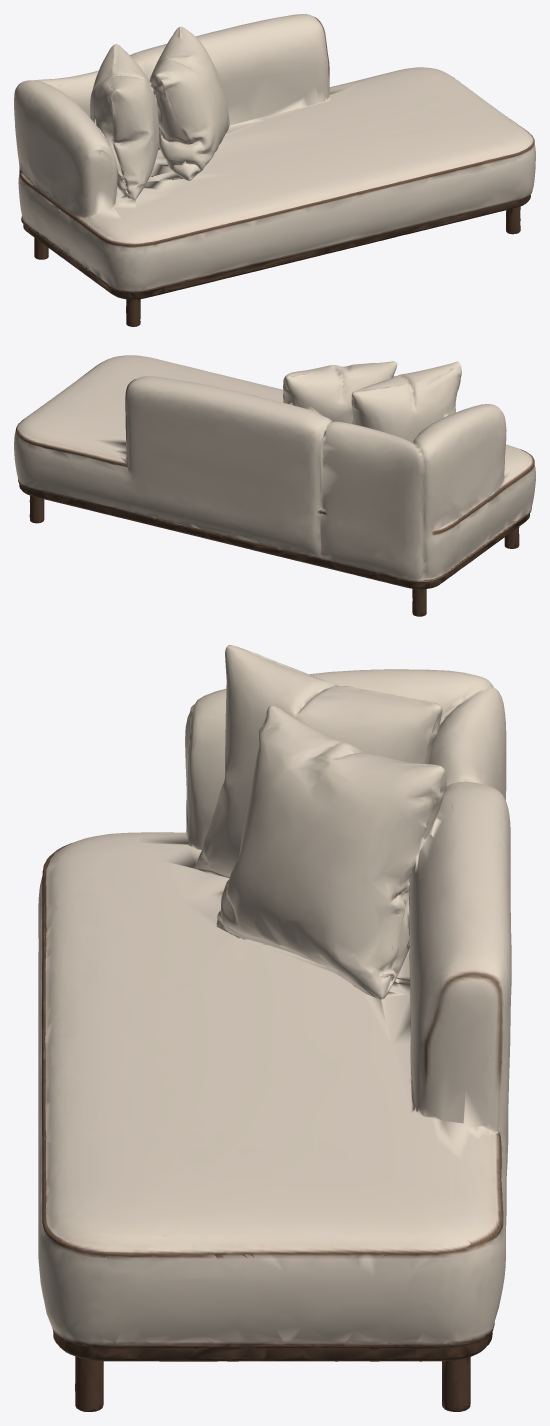
The model's file is ivory-chaise.glb.
3 renders of one model, top to bottom at view 1: azimuth 30°, elevation 25°; view 2: azimuth 150°, elevation 25°; view 3: azimuth 270°, elevation 25°, orthographic. The views are drawn at different scales.
Parts seen in each view (by area): view 1: world; view 2: world; view 3: world.
Boxes of the visible parts, <box> form: world: <box>14,14,535,326</box>; world: <box>14,355,535,616</box>; world: <box>38,645,511,1411</box>.
Bounding box in the file's own units: 0.9986 × 0.4524 × 0.4755.
Materials: 1 (1 with a texture image).
